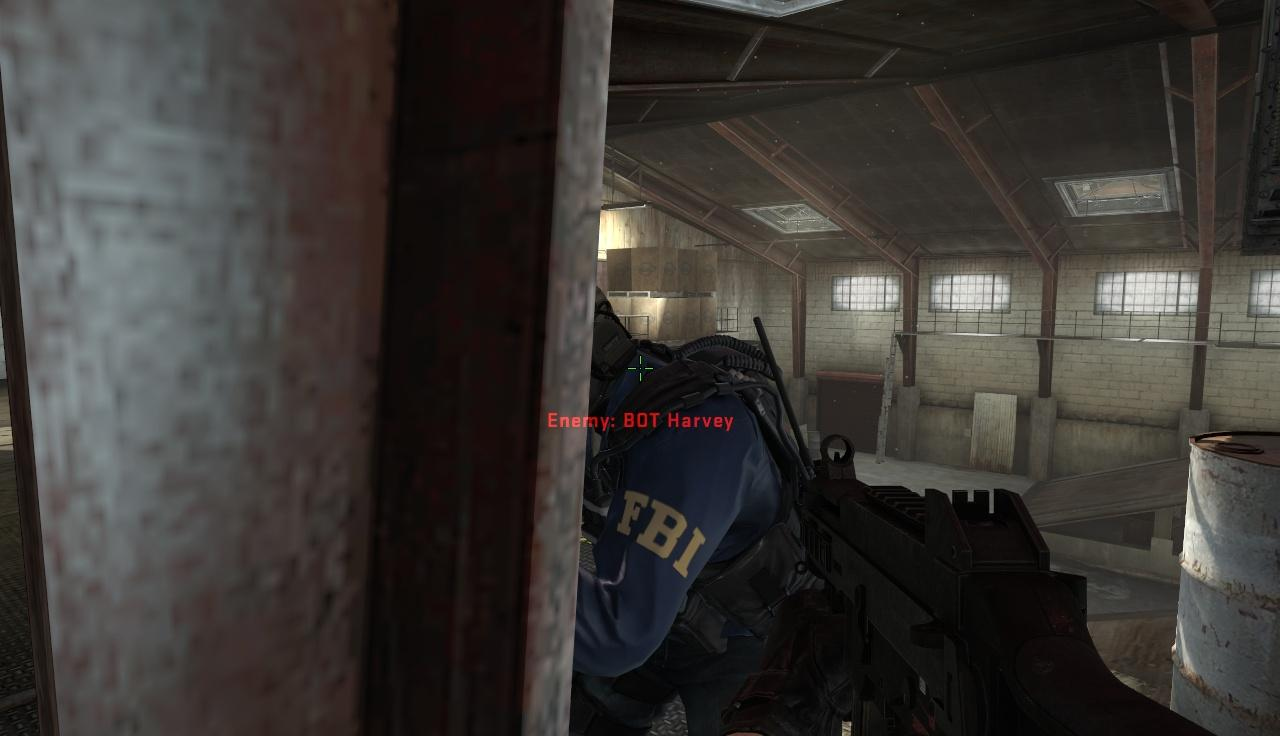ct: (578, 298, 783, 736)
rifle: (782, 428, 1194, 732)
